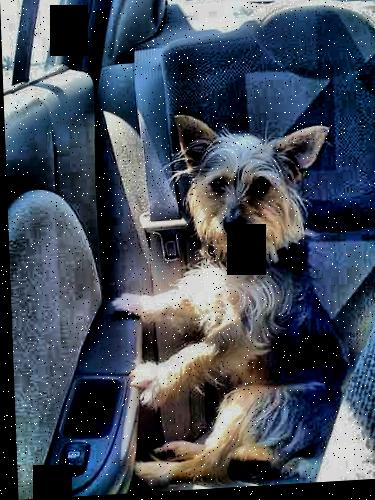seatbelt: (105, 41, 212, 439)
